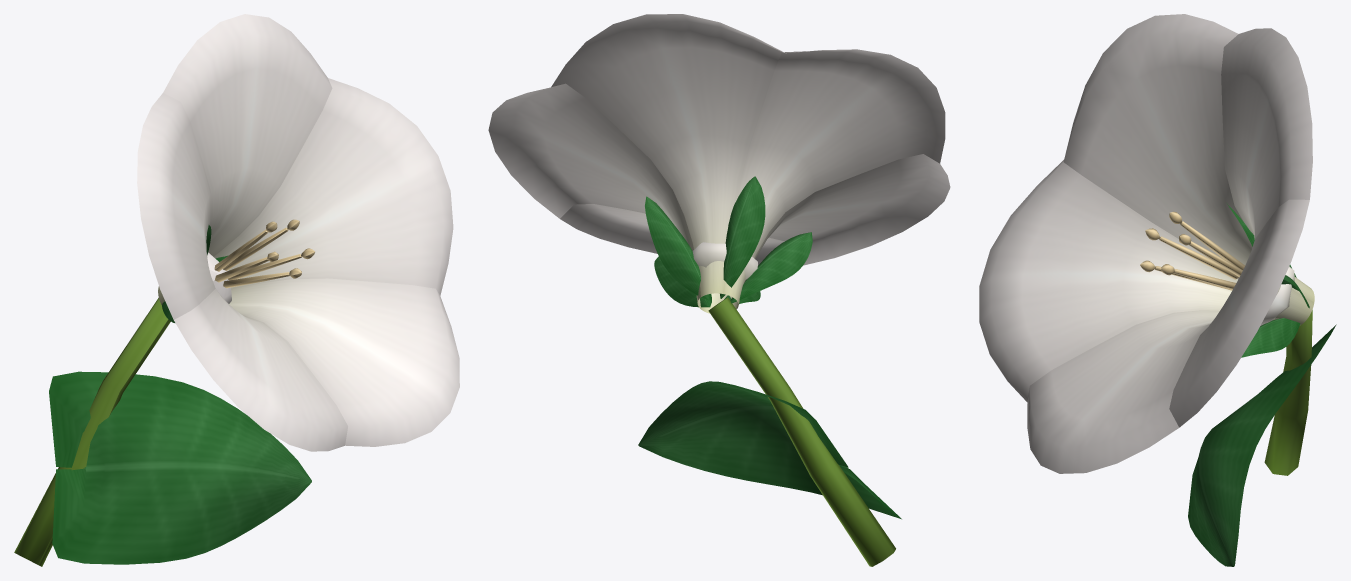
Rendered from NP_Moonflower_Harvest.fbx.
The picture shows the model from 3 angles, left to right: view 1: azimuth 30°, elevation 25°; view 2: azimuth 150°, elevation 25°; view 3: azimuth 270°, elevation 25°; orthographic projection. The views are drawn at different scales.
Parts seen in each view (by area): view 1: NP_Moonflower_Harvest.001; view 2: NP_Moonflower_Harvest.001; view 3: NP_Moonflower_Harvest.001.
Part boxes in pixels (bbox=[...]): NP_Moonflower_Harvest.001: bbox=[14, 14, 459, 566]; NP_Moonflower_Harvest.001: bbox=[488, 14, 950, 566]; NP_Moonflower_Harvest.001: bbox=[979, 14, 1336, 566].
Size of the model in its own units: 47.15 by 54.19 by 32.79.
